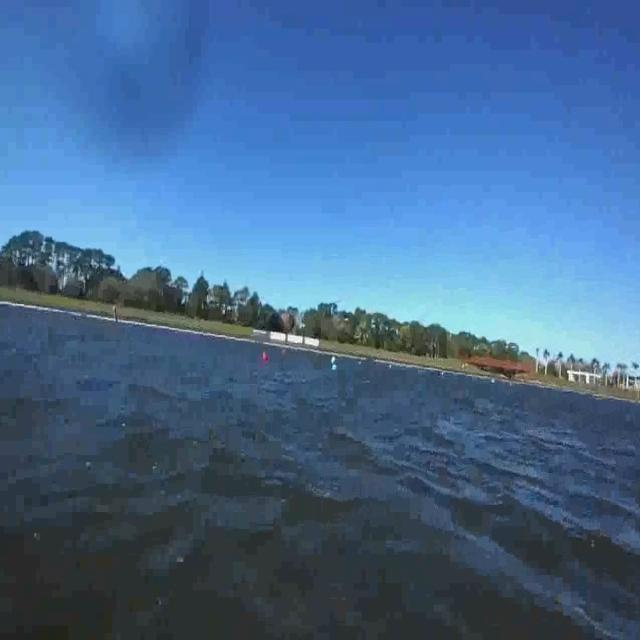red-buoy: (265, 352, 270, 362)
